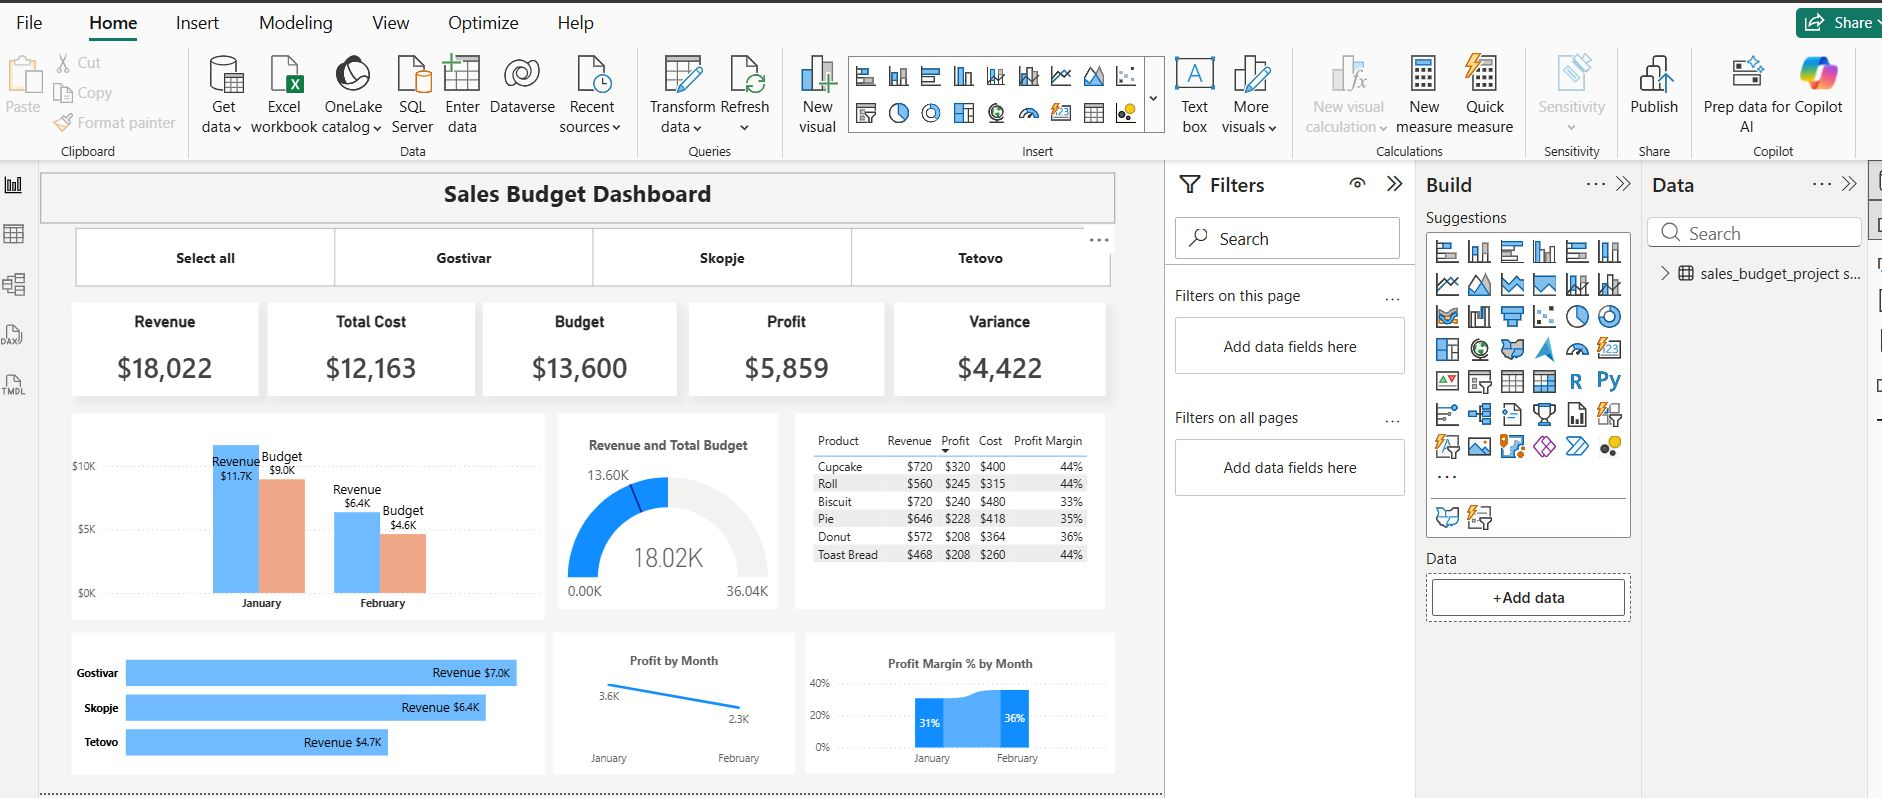

Layout of this report page (visuals, bound fields, positions):
{"tool":"powerbi","page":{"name":"KPI","canvas":[1280,720],"ordinal":0},"visuals":[{"type":"cardVisual","title":"Revenue","fields":{"Data":["Sum(sales_budget_project sales_data.Revenue)"]},"box":[36.4,161.7,212.9,106.4],"z":0},{"type":"cardVisual","title":"Total Cost","fields":{"Data":["sales_budget_project sales_data.Total Cost"]},"box":[260,161.7,235.8,106.4],"z":1000},{"type":"cardVisual","title":"Budget","fields":{"Data":["Sum(sales_budget_project sales_data.Budget_Value)"]},"box":[505.3,161.7,221,106.4],"z":2000},{"type":"cardVisual","title":"Profit","fields":{"Data":["Sum(sales_budget_project sales_data.Profit)"]},"box":[739.7,161.7,222.3,106.4],"z":3000},{"type":"cardVisual","title":"Variance","fields":{"Data":["Sum(sales_budget_project sales_data.Variance)"]},"box":[972.8,161.7,241.2,106.4],"z":4000},{"type":"clusteredColumnChart","fields":{"Category":["sales_budget_project sales_data.Month"],"Y":["Sum(sales_budget_project sales_data.Revenue)","Sum(sales_budget_project sales_data.Budget_Value)"]},"box":[36.4,288.2,538.2,234.1],"z":5000},{"type":"clusteredBarChart","title":"Revenue by Location","fields":{"Category":["sales_budget_project sales_data.Location"],"Y":["Sum(sales_budget_project sales_data.Revenue)"]},"box":[36.4,537.3,538.2,162.3],"z":6000},{"type":"advancedSlicerVisual","fields":{"Values":["sales_budget_project sales_data.Location"]},"box":[36.4,72.8,1187,76.8],"z":7000},{"type":"tableEx","fields":{"Values":["sales_budget_project sales_data.Material_Description","Sum(sales_budget_project sales_data.Revenue)","Sum(sales_budget_project sales_data.Profit)","sales_budget_project sales_data.Total Cost","sales_budget_project sales_data.Profit Margin %"]},"box":[860.1,288.2,352.9,222.6],"z":8000},{"type":"textbox","box":[1.3,14.8,1223.4,57.9],"z":9000},{"type":"gauge","title":" ","fields":{"Y":["sales_budget_project sales_data.Total Revenue"],"TargetValue":["sales_budget_project sales_data.Total Budget"]},"box":[590.1,288.6,251,222.2],"z":10000},{"type":"lineChart","title":" ","fields":{"Y":["Sum(sales_budget_project sales_data.Profit)"],"Category":["sales_budget_project sales_data.Date.Variation.Date Hierarchy.Month"]},"box":[584.3,538.2,275.8,161.4],"z":10001},{"type":"ribbonChart","title":" ","fields":{"Category":["sales_budget_project sales_data.Date.Variation.Date Hierarchy.Month"],"Y":["sales_budget_project sales_data.Profit Margin %"]},"box":[872.5,537.3,352.9,160.5],"z":10002}]}

Visuals, with their boxes on the page's 1280x720 design canvas (x1, y1, x2, y2). These are canvas units, not pixel positions in the 1882x798 screenshot, which may show the page scaled, cropped or inside an application window:
"Revenue" cardVisual: x1=36 y1=162 x2=249 y2=268
"Total Cost" cardVisual: x1=260 y1=162 x2=496 y2=268
"Budget" cardVisual: x1=505 y1=162 x2=726 y2=268
"Profit" cardVisual: x1=740 y1=162 x2=962 y2=268
"Variance" cardVisual: x1=973 y1=162 x2=1214 y2=268
clusteredColumnChart - sales_budget_project sales_data.Month x Sum(sales_budget_project sales_data.Revenue): x1=36 y1=288 x2=575 y2=522
"Revenue by Location" clusteredBarChart: x1=36 y1=537 x2=575 y2=700
advancedSlicerVisual - sales_budget_project sales_data.Location: x1=36 y1=73 x2=1223 y2=150
tableEx - sales_budget_project sales_data.Material_Description x Sum(sales_budget_project sales_data.Revenue): x1=860 y1=288 x2=1213 y2=511
textbox: x1=1 y1=15 x2=1225 y2=73
" " gauge: x1=590 y1=289 x2=841 y2=511
" " lineChart: x1=584 y1=538 x2=860 y2=700
" " ribbonChart: x1=872 y1=537 x2=1225 y2=698
